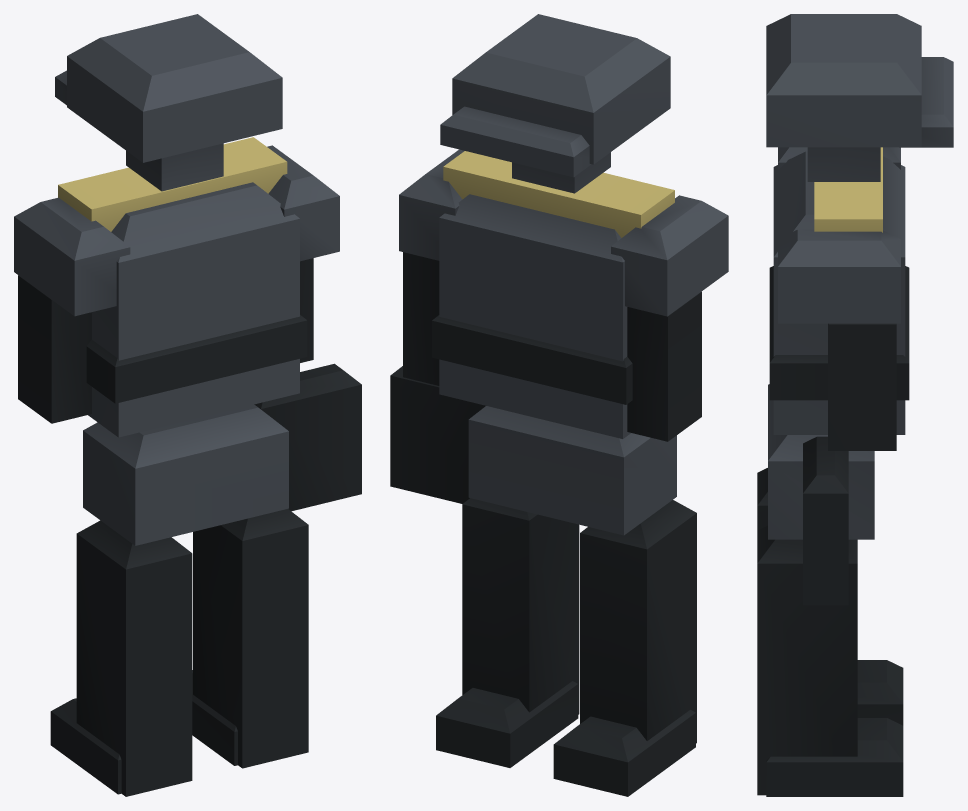
Rendered from spy.glb.
3 views of the same model, side by side, from view 1: azimuth 30°, elevation 25°; view 2: azimuth 150°, elevation 25°; view 3: azimuth 270°, elevation 25° (orthographic).
Parts seen in each view (by area): view 1: Body; view 2: Body; view 3: Body.
Boxes of the visible parts, x1,y1,x2,y2 form: Body: (14,14,361,796); Body: (390,14,728,796); Body: (757,14,953,796).
Size of the model in its own units: 0.772 by 1.72 by 0.43.
